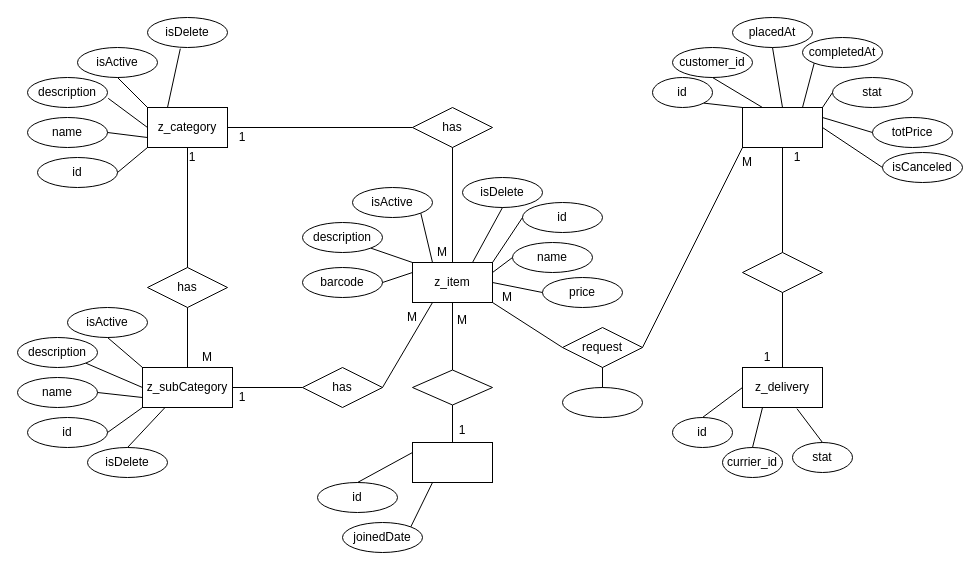
Some shapes in this 980 by 570 pixel diagram are drawn without their labels. Each missing label, with the box of its shape:
deliver: (742, 252, 822, 292)
qty: (562, 386, 642, 418)
supply: (412, 369, 492, 405)
z_order: (742, 106, 822, 148)
z_Supplier: (412, 442, 492, 482)
